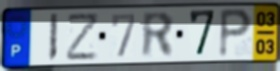7: (188, 9, 217, 60), (110, 12, 138, 59)
I: (47, 12, 60, 63)
P: (217, 7, 254, 60)
R: (141, 11, 176, 60)
Z: (66, 11, 101, 63)
